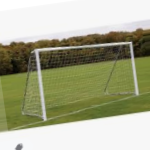goals: (22, 41, 141, 120)
